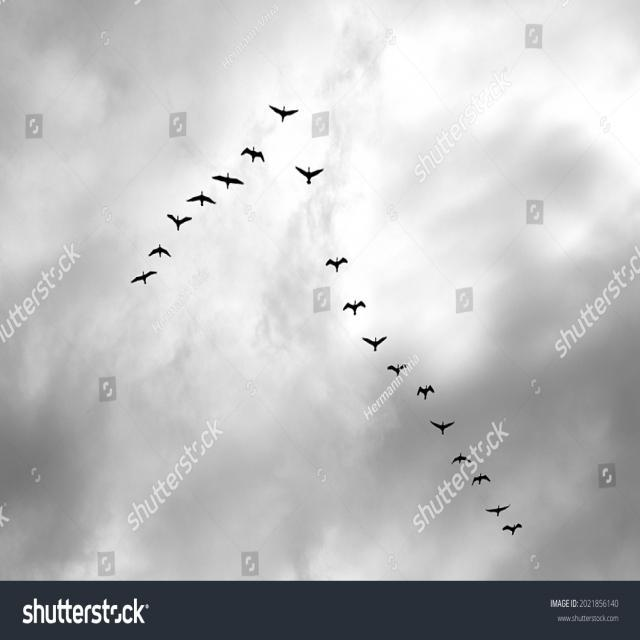bird: (190, 152, 260, 208), (285, 142, 336, 208), (178, 185, 230, 240), (259, 85, 307, 128), (346, 326, 396, 364), (226, 122, 266, 166), (115, 260, 163, 296), (338, 280, 378, 322), (408, 374, 444, 413), (144, 234, 182, 270), (426, 406, 460, 442), (321, 243, 352, 282), (487, 494, 518, 528), (390, 353, 413, 391), (158, 212, 194, 236), (461, 469, 493, 496), (502, 516, 530, 546), (446, 448, 471, 477)
